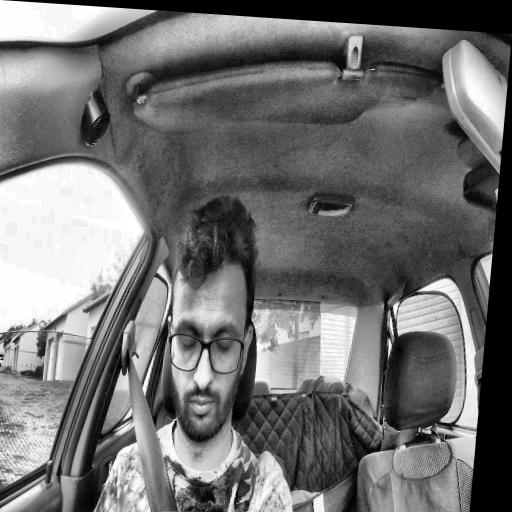drowsy: (155, 193, 266, 447)
